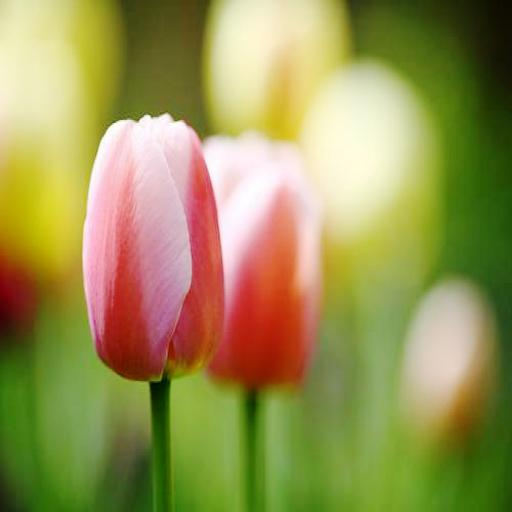tulip: (83, 111, 223, 389)
